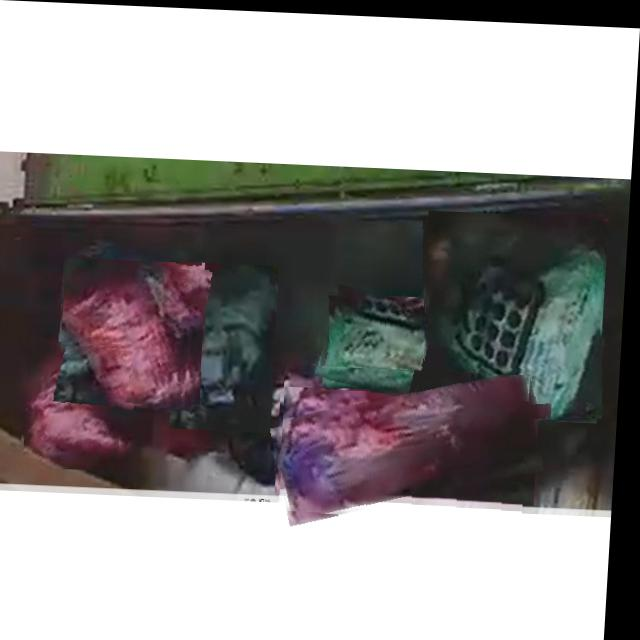general_trashbag: (428, 215, 607, 413), (178, 263, 279, 426), (325, 289, 437, 389)
other_trashbag: (286, 371, 533, 512), (67, 258, 190, 404), (31, 345, 125, 469)
